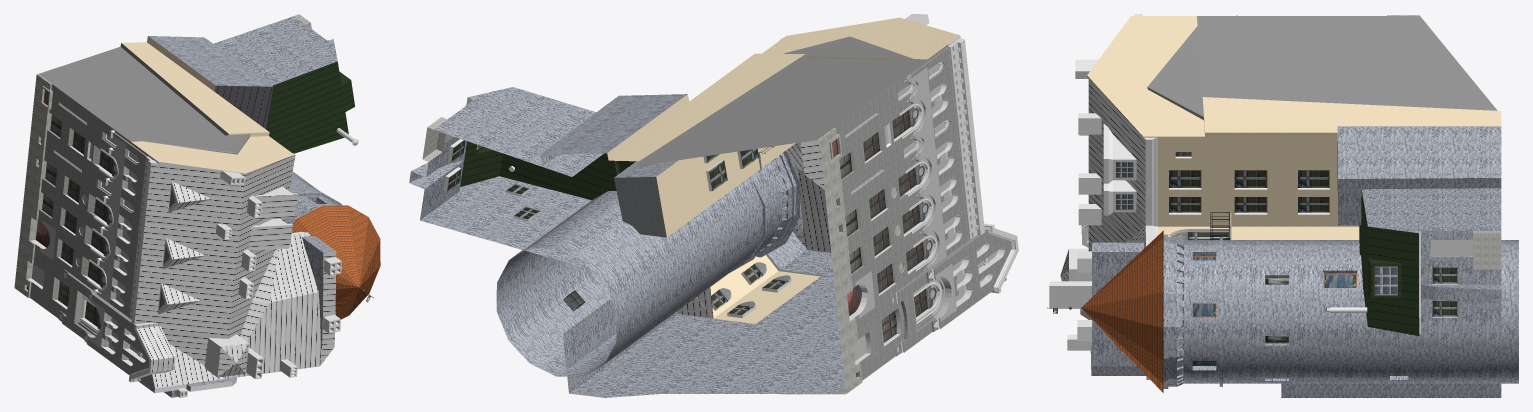
The model's file is Pikk_62.obj.
The picture shows the model from 3 angles, left to right: view 1: azimuth 30°, elevation 25°; view 2: azimuth 150°, elevation 25°; view 3: azimuth 270°, elevation 25°; orthographic projection. The views are drawn at different scales.
Visible parts, largest first — view 1: Pikk_62, xxx; view 2: Pikk_62, xxx; view 3: Pikk_62, xxx.
Boxes of the visible parts, <box> form: Pikk_62: <box>14,14,380,397</box>; xxx: <box>39,43,250,152</box>; Pikk_62: <box>409,14,1018,397</box>; xxx: <box>639,36,926,165</box>; Pikk_62: <box>1047,14,1518,397</box>; xxx: <box>1147,16,1497,116</box>.
Bounding box in the file's own units: 29.67 × 19.28 × 29.55.
